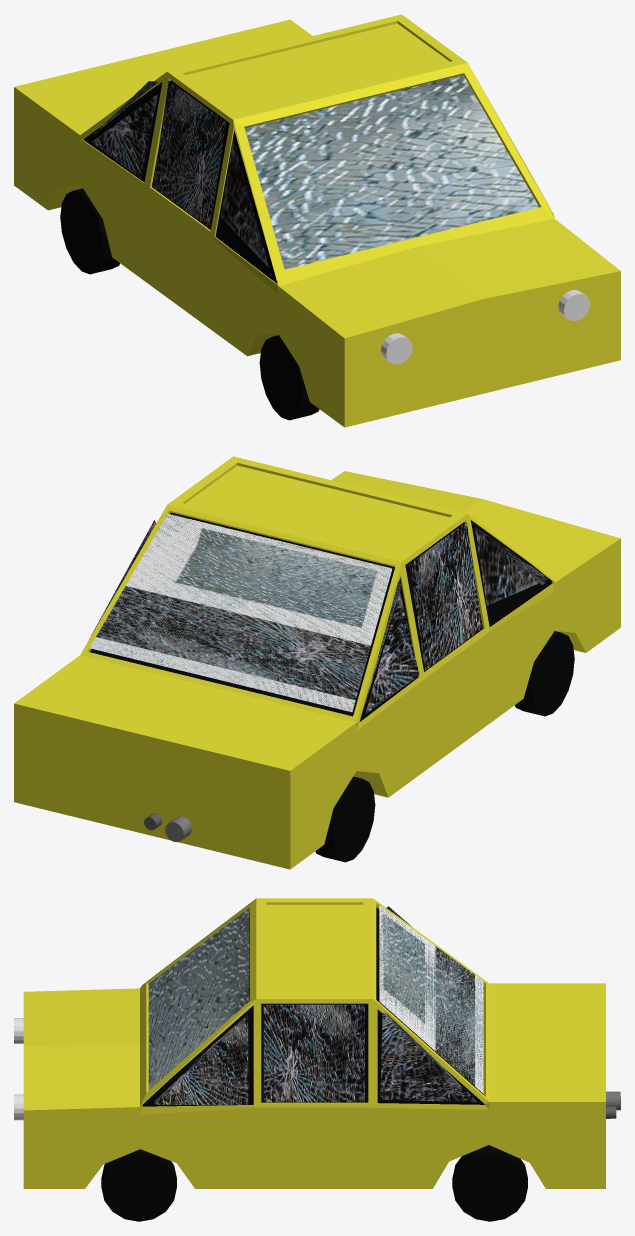
File: CarYellowStage2.fbx
The picture shows the model from 3 angles, top to bottom: view 1: azimuth 30°, elevation 25°; view 2: azimuth 150°, elevation 25°; view 3: azimuth 270°, elevation 25°; orthographic projection. The views are drawn at different scales.
Visible parts, largest first — view 1: Car, Achteruit kapot, wheels, Headlights; view 2: Car, Achteruit kapot, wheels; view 3: Car, Achteruit kapot, wheels, Headlights.
Boxes of the visible parts, x1,y1,x2,y2 form: Car: [14, 14, 620, 427]; Achteruit kapot: [91, 75, 539, 269]; wheels: [60, 188, 319, 420]; Headlights: [381, 290, 590, 364]; Car: [14, 456, 620, 869]; Achteruit kapot: [89, 513, 548, 713]; wheels: [315, 631, 574, 862]; Car: [23, 898, 605, 1188]; Achteruit kapot: [148, 905, 483, 1104]; wheels: [101, 1145, 527, 1221]; Headlights: [14, 1018, 23, 1120].
Size of the model in its own units: 502 by 415 by 1063.
